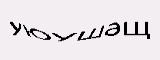У: (50, 25, 74, 44), (6, 19, 22, 36)
Ш: (77, 25, 104, 43)
Щ: (121, 17, 152, 38)
Ю: (22, 22, 50, 42)
Ә: (106, 19, 122, 38)
